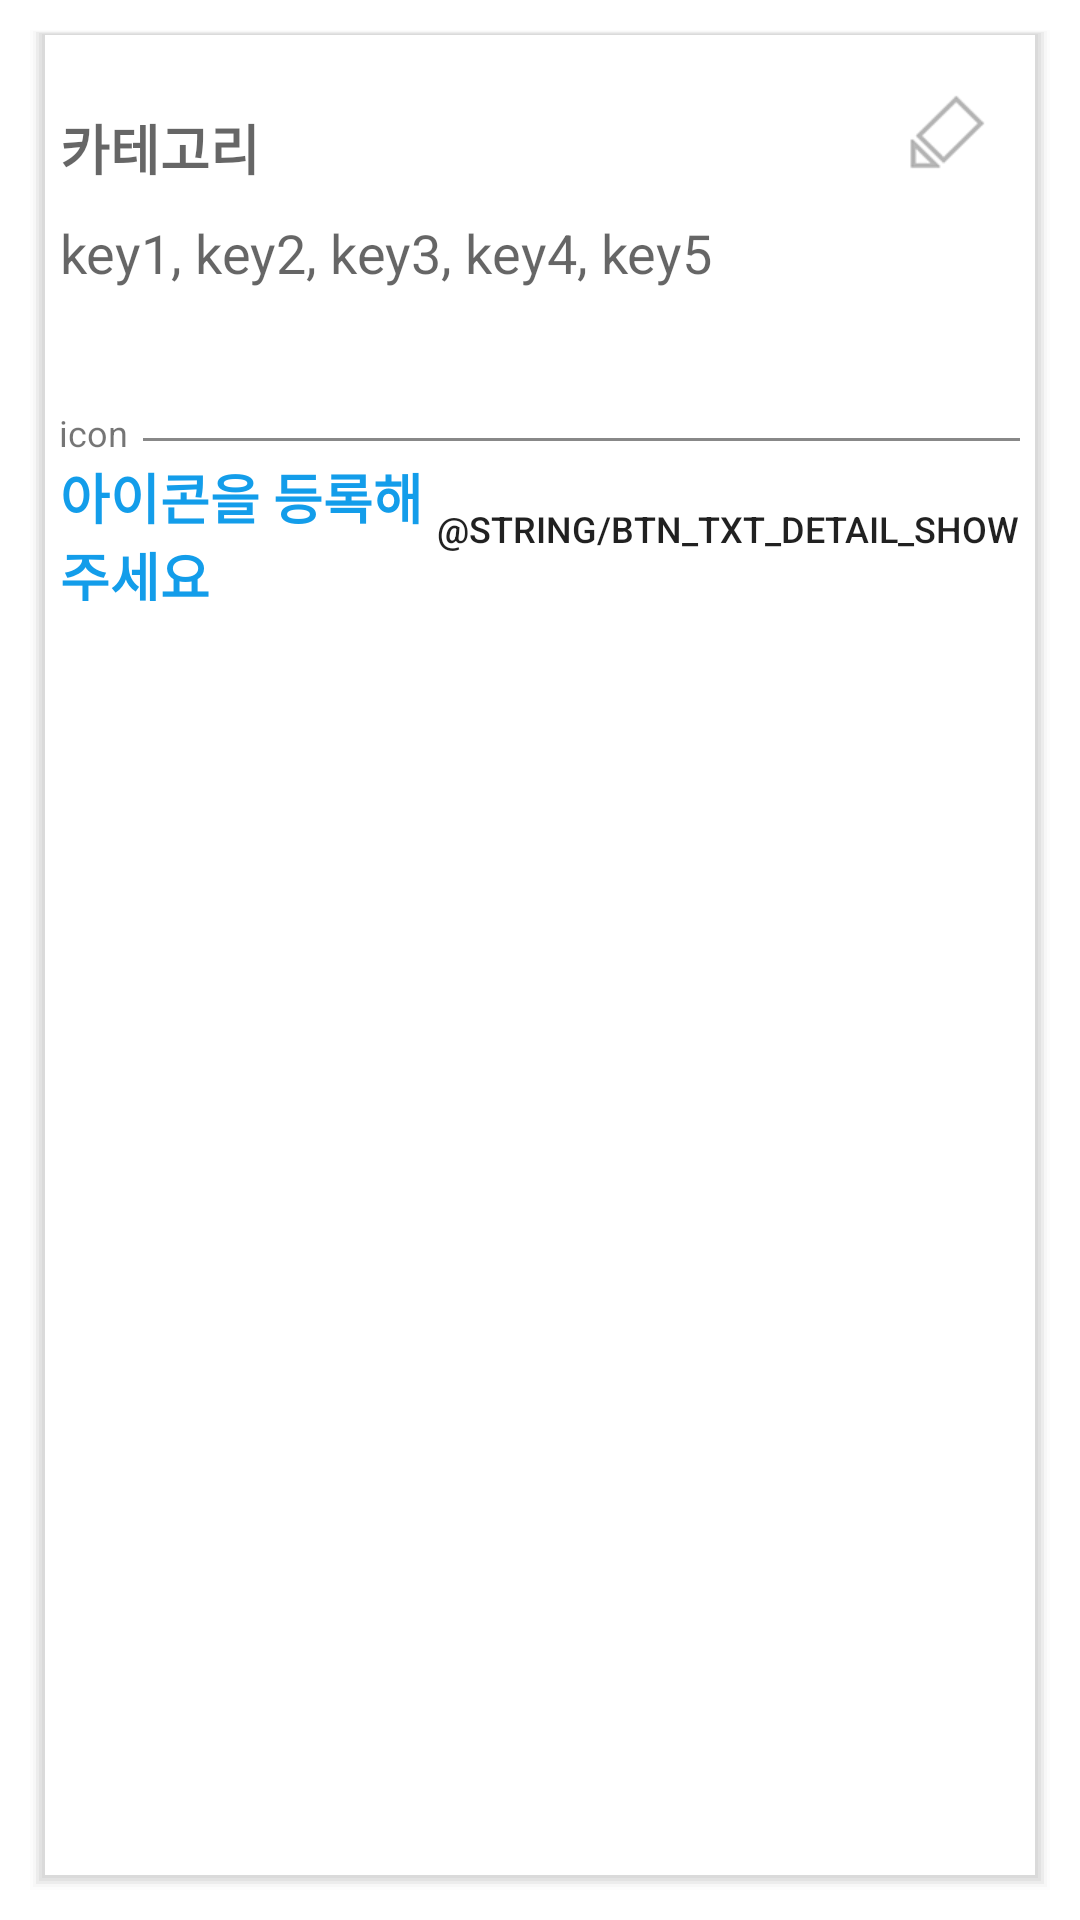

Icon bounding boxes for this 1080w x 1920h phone screenshot, format [x1=x1, y1=y1, x2=x2, y2=y2]:
edit: [x1=910, y1=96, x2=984, y2=168]
